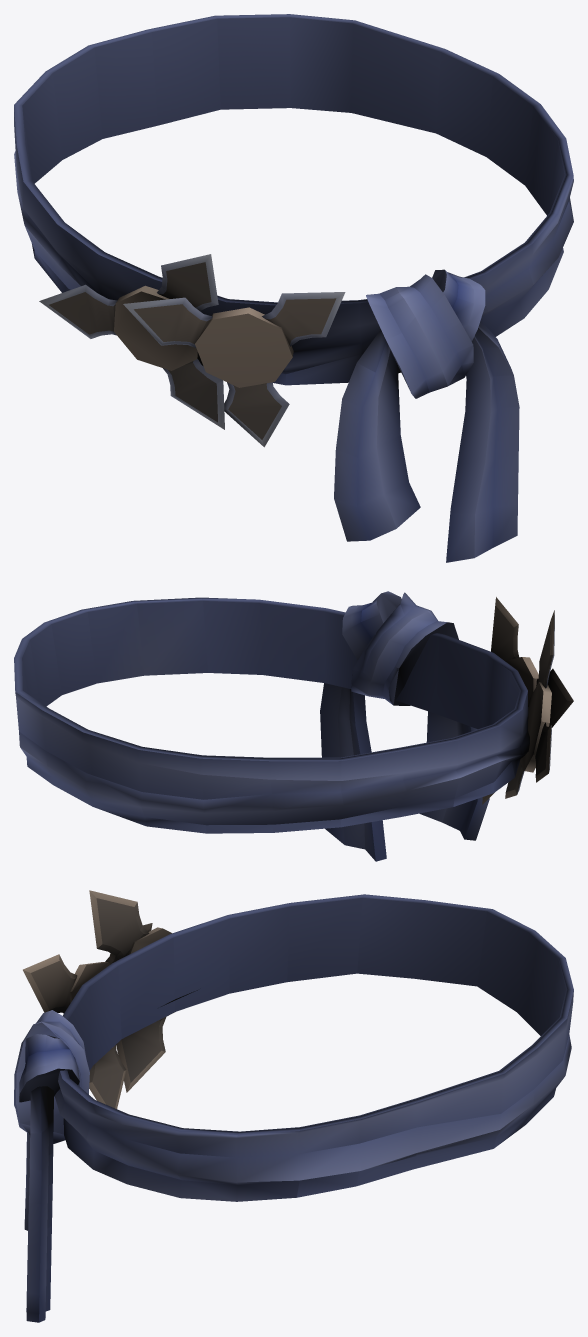
File: Belt_Ninja_Waistband.gltf
3 renders of one model, top to bottom at view 1: azimuth 30°, elevation 25°; view 2: azimuth 150°, elevation 25°; view 3: azimuth 270°, elevation 25°, orthographic. The views are drawn at different scales.
Parts seen in each view (by area): view 1: Belt_Ninja_Waistband; view 2: Belt_Ninja_Waistband; view 3: Belt_Ninja_Waistband.
Boxes of the visible parts, left/top/right/bottom form: Belt_Ninja_Waistband: left=14, top=14, right=573, bottom=562; Belt_Ninja_Waistband: left=14, top=591, right=573, bottom=861; Belt_Ninja_Waistband: left=14, top=890, right=573, bottom=1322.
Bounding box in the file's own units: 0.8657 × 0.5362 × 0.8473.
Materials: 2 (2 with a texture image).
